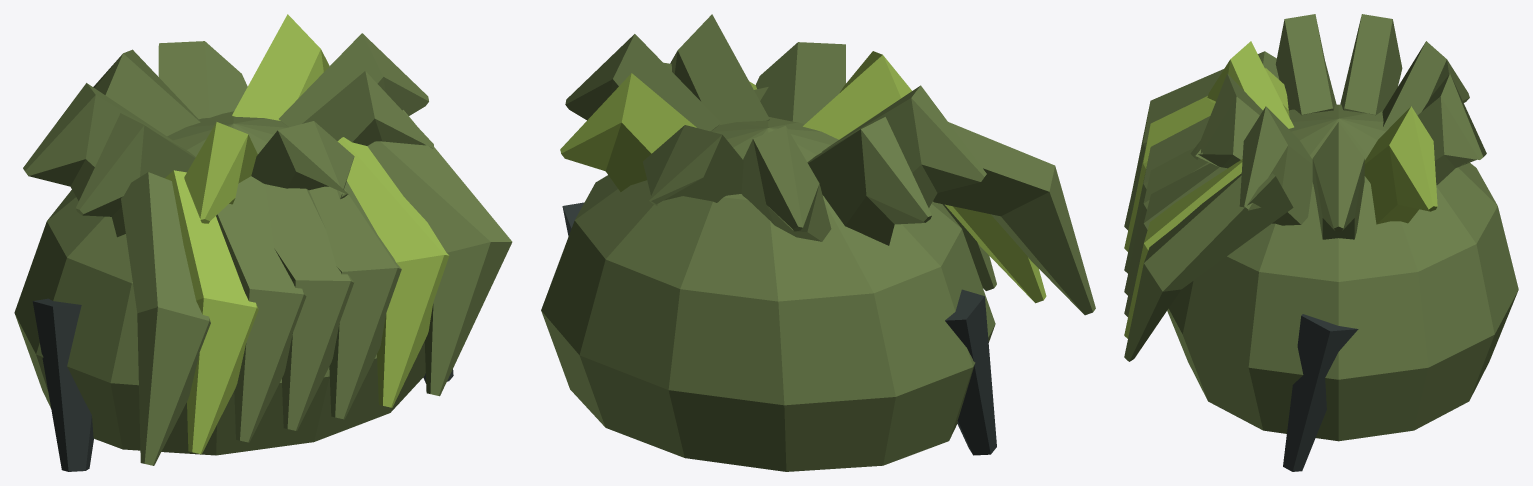
3 renders of one model, left to right at view 1: azimuth 30°, elevation 25°; view 2: azimuth 150°, elevation 25°; view 3: azimuth 270°, elevation 25°, orthographic. The views are drawn at different scales.
Parts seen in each view (by area): view 1: Copa facetada, Mecha da franja, Mecha da franja.006, Mecha da franja.005, Mecha da franja.002, Mecha da franja.003, Mecha da franja.001, Mecha da franja.004, Mecha superior.005, Costeleta, Mecha superior.004, Mecha superior.007 (+6 smaller); view 2: Copa facetada, Mecha da franja, Mecha superior.004, Mecha superior.001, Mecha superior.003, Mecha superior.005, Mecha superior.002, Mecha superior.008, Mecha superior.007, Mecha superior, Costeleta, Mecha superior.006 (+2 smaller); view 3: Copa facetada, Mecha da franja.006, Mecha superior.001, Mecha superior.008, Costeleta.001, Mecha superior, Mecha superior.004, Mecha superior.005, Mecha superior.002, Mecha superior.007, Mecha superior.003, Mecha superior.006 (+6 smaller).
Part boxes in pixels (x1,y1,x2,y2): Copa facetada: [14, 111, 425, 455]; Mecha da franja: [121, 172, 210, 465]; Mecha da franja.006: [367, 110, 512, 396]; Mecha da franja.005: [337, 137, 449, 407]; Mecha da franja.002: [216, 176, 306, 442]; Mecha da franja.003: [265, 184, 353, 430]; Mecha da franja.001: [165, 170, 258, 454]; Mecha da franja.004: [309, 181, 401, 419]; Mecha superior.005: [75, 113, 195, 237]; Costeleta: [32, 298, 93, 471]; Mecha superior.004: [23, 83, 181, 200]; Mecha superior.007: [251, 121, 354, 199]; Copa facetada: [541, 117, 995, 471]; Mecha da franja: [933, 122, 1095, 315]; Mecha superior.004: [807, 117, 931, 245]; Mecha superior.001: [560, 73, 696, 191]; Mecha superior.003: [741, 126, 831, 241]; Mecha superior.005: [822, 85, 986, 207]; Mecha superior.002: [643, 125, 743, 205]; Mecha superior.008: [670, 14, 769, 125]; Mecha superior.007: [756, 42, 845, 127]; Mecha superior: [565, 34, 721, 131]; Costeleta: [945, 289, 996, 455]; Mecha superior.006: [803, 51, 911, 139]; Copa facetada: [1167, 104, 1518, 441]; Mecha da franja.006: [1124, 173, 1293, 361]; Mecha superior.001: [1364, 106, 1437, 224]; Mecha superior.008: [1239, 106, 1312, 225]; Costeleta.001: [1283, 314, 1358, 471]; Mecha superior: [1312, 122, 1364, 239]; Mecha superior.004: [1340, 14, 1402, 115]; Mecha superior.005: [1275, 14, 1336, 115]; Mecha superior.002: [1417, 74, 1486, 184]; Mecha superior.007: [1190, 73, 1262, 168]; Mecha superior.003: [1382, 41, 1469, 129]; Mecha superior.006: [1207, 41, 1293, 128].
Bounding box in the file's own units: 1.05 × 0.8542 × 0.942.
